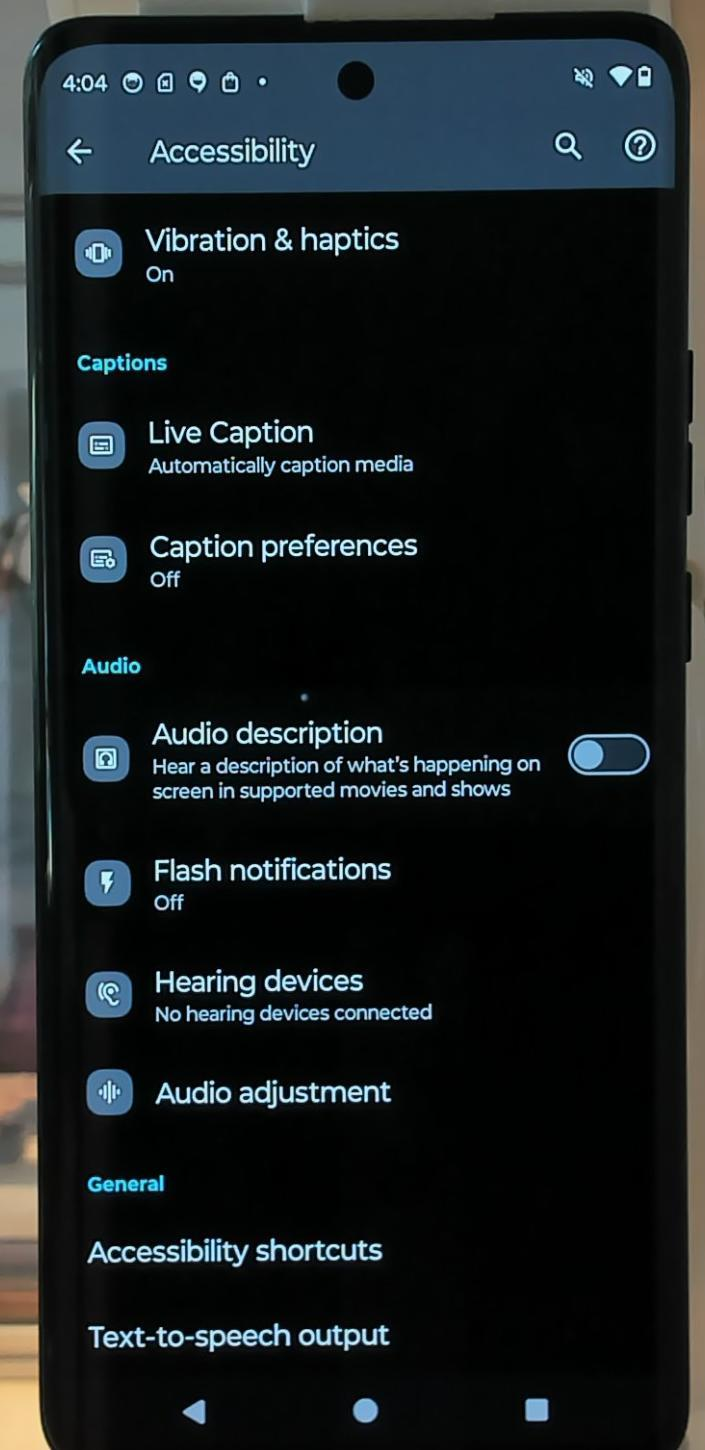Checkbox: (143, 706, 662, 809)
